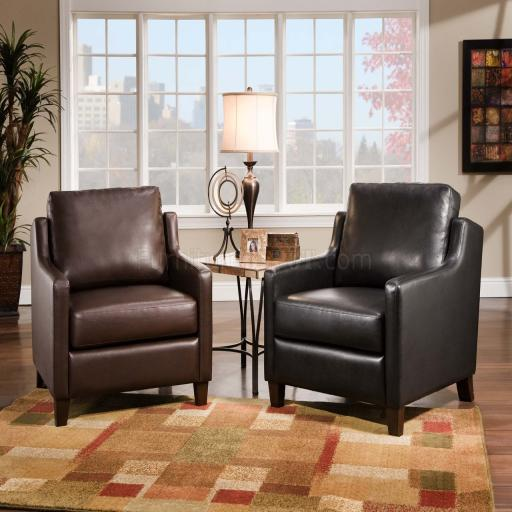chair: (264, 183, 484, 437), (30, 186, 212, 427)
desk: (200, 255, 306, 396)
wall: (0, 0, 512, 297)
